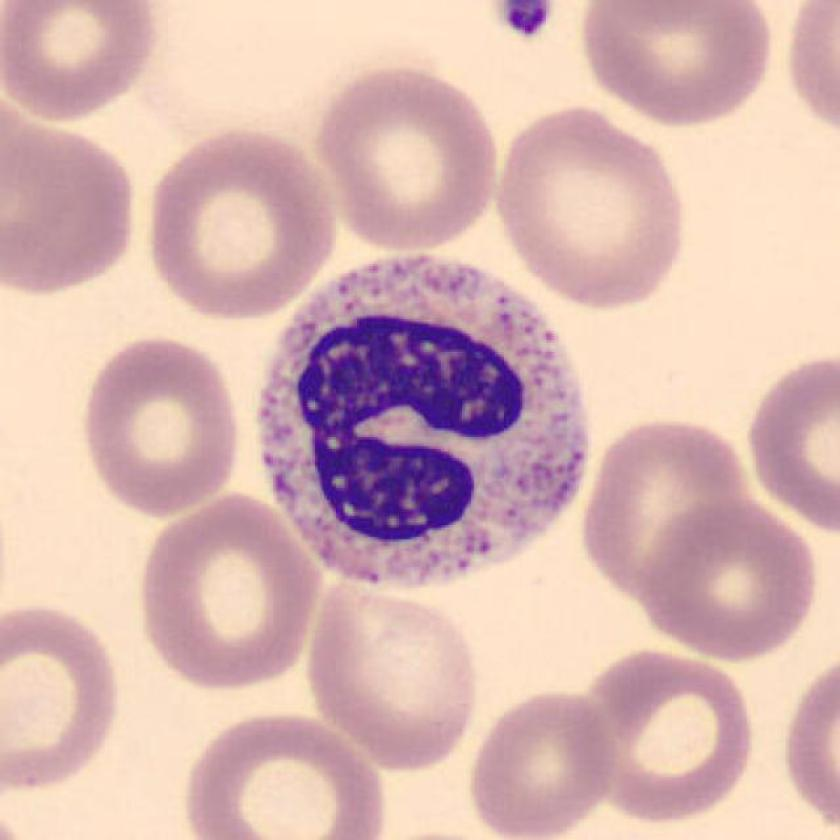neutrophil: (260, 258, 589, 589)
